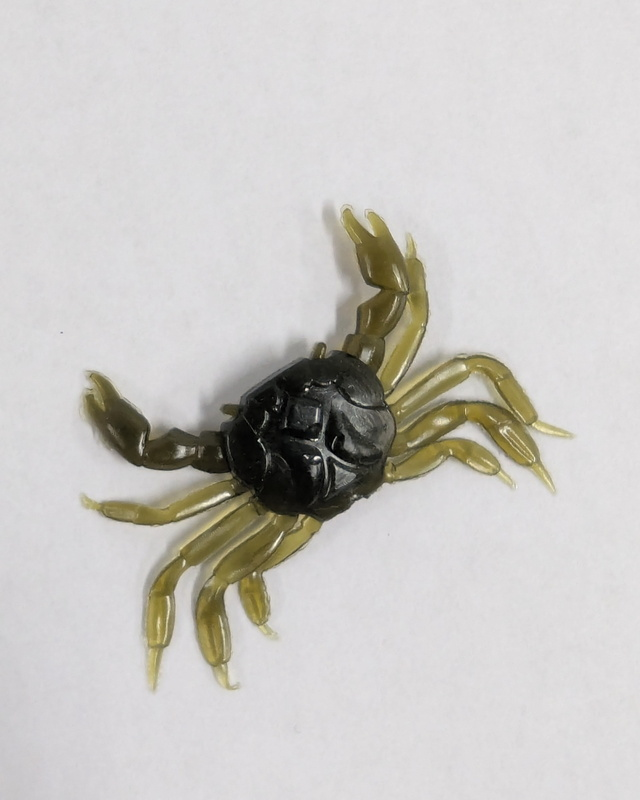crab2: (76, 201, 575, 695)
